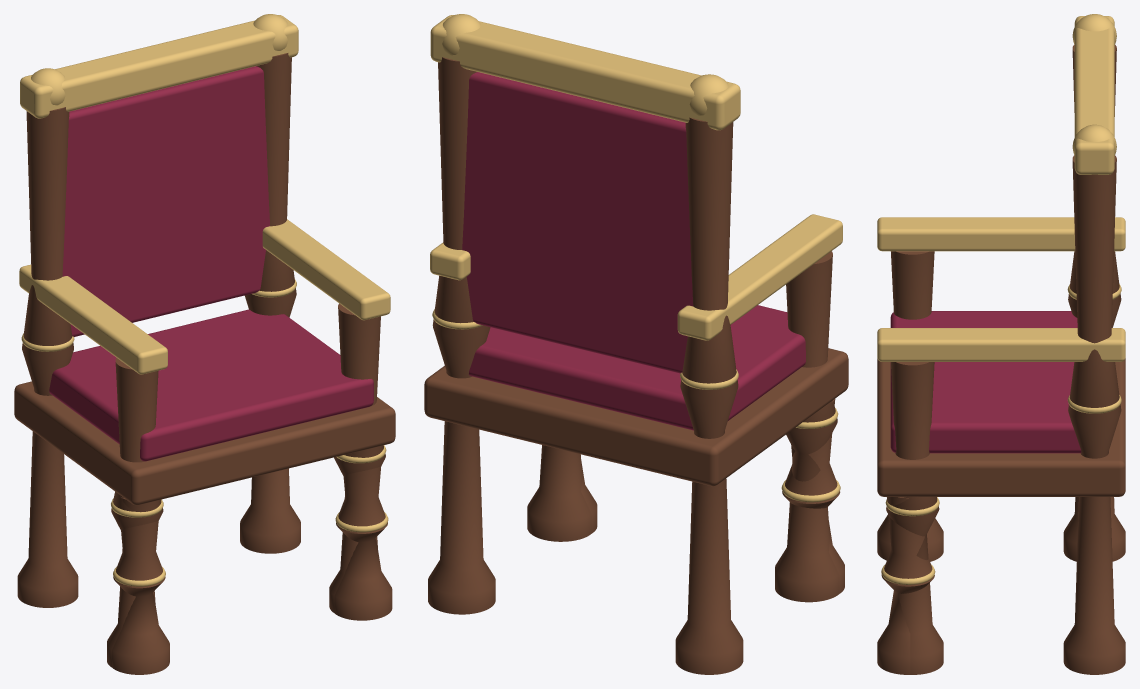
Rendered from royal-court-and-throne-palace-court-armchair-13556656__29384.glb.
The picture shows the model from 3 angles, left to right: view 1: azimuth 30°, elevation 25°; view 2: azimuth 150°, elevation 25°; view 3: azimuth 270°, elevation 25°; orthographic projection. The views are drawn at different scales.
Visible parts, largest first — view 1: court-armchair; view 2: court-armchair; view 3: court-armchair.
Boxes of the visible parts, box(x1,y1,x2,y2) form: court-armchair: box(14, 14, 395, 674); court-armchair: box(424, 14, 848, 674); court-armchair: box(877, 14, 1125, 674).
Size of the model in its own units: 0.7301 by 1.33 by 0.5601.
